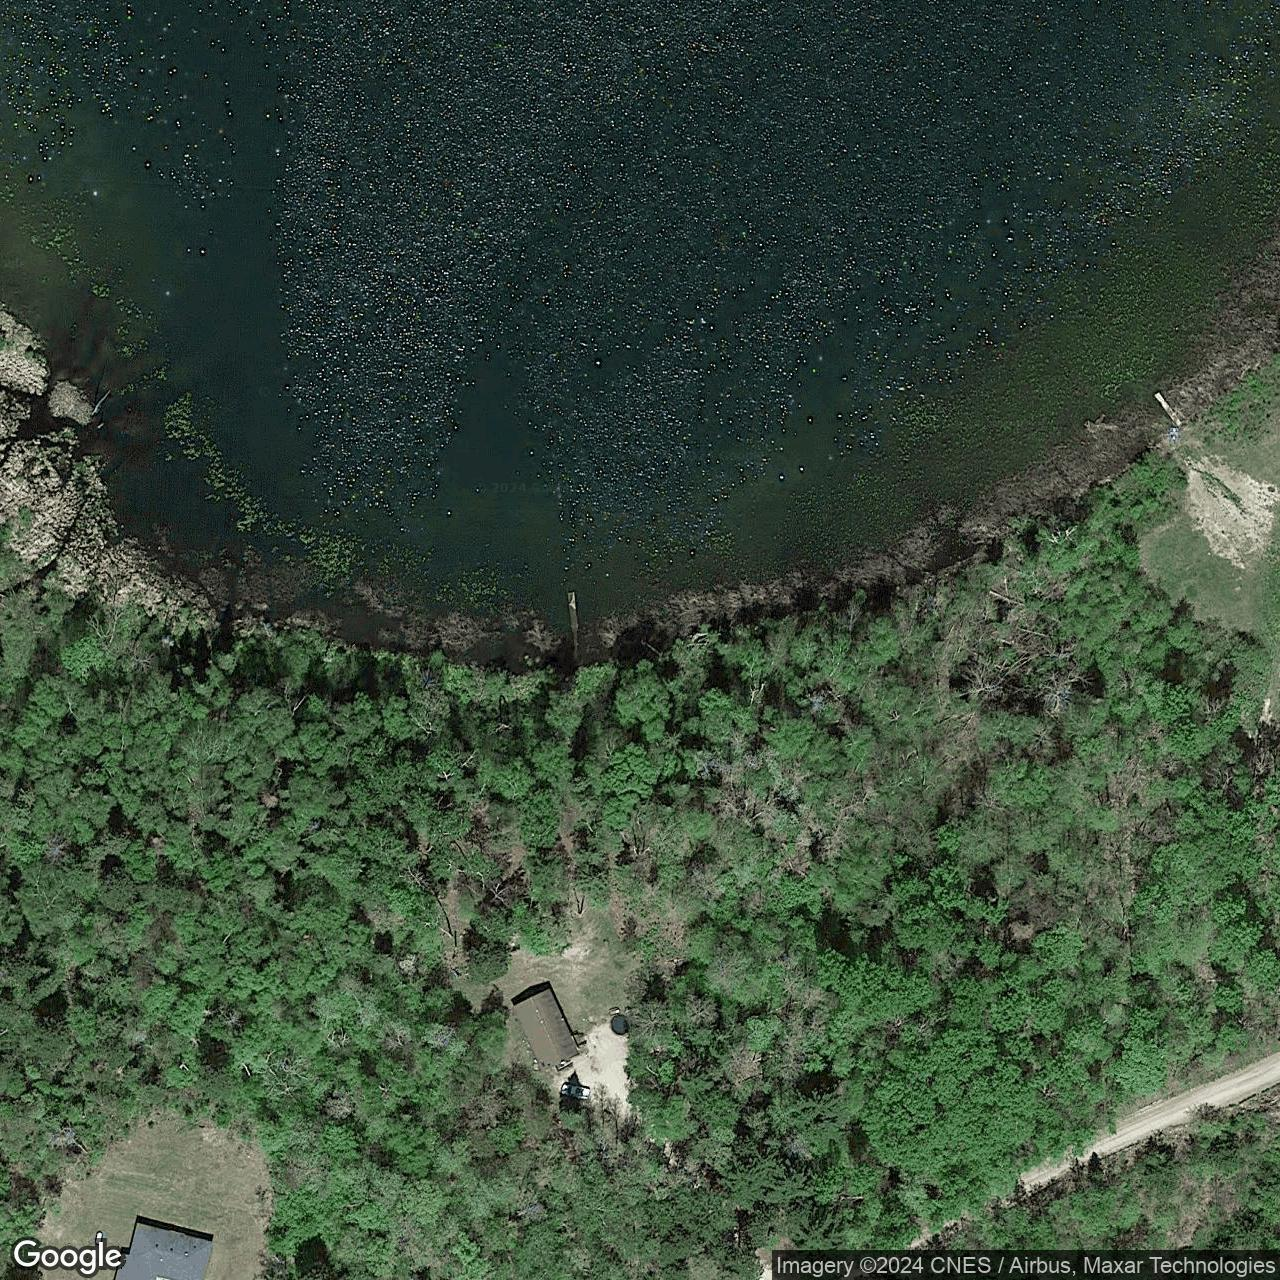House: (510, 986, 581, 1069), (115, 1221, 213, 1280)
Propane: (93, 1228, 105, 1247)
